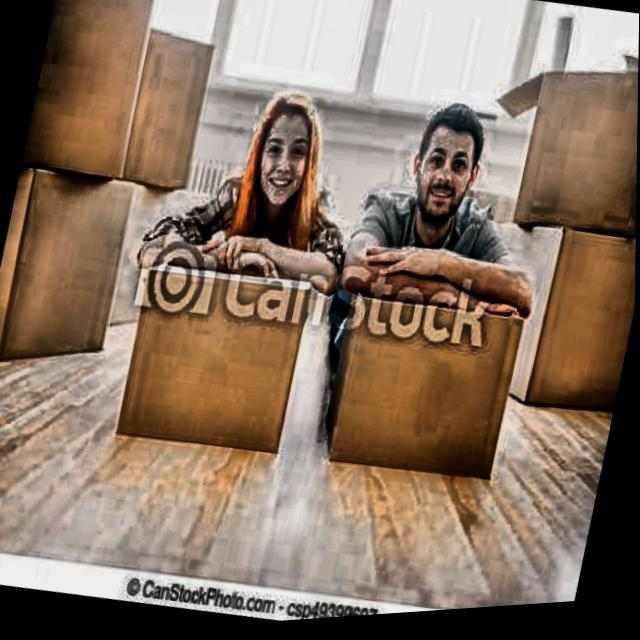Cardbox: (303, 276, 543, 521), (99, 253, 329, 484), (462, 214, 637, 441), (474, 36, 639, 256), (0, 151, 140, 387), (20, 0, 185, 198), (99, 5, 227, 197)
